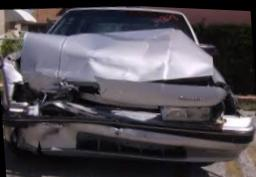Bonnet: (20, 26, 228, 110)
Bumper: (2, 110, 256, 160)
Fender: (211, 74, 255, 122), (1, 47, 24, 112)
